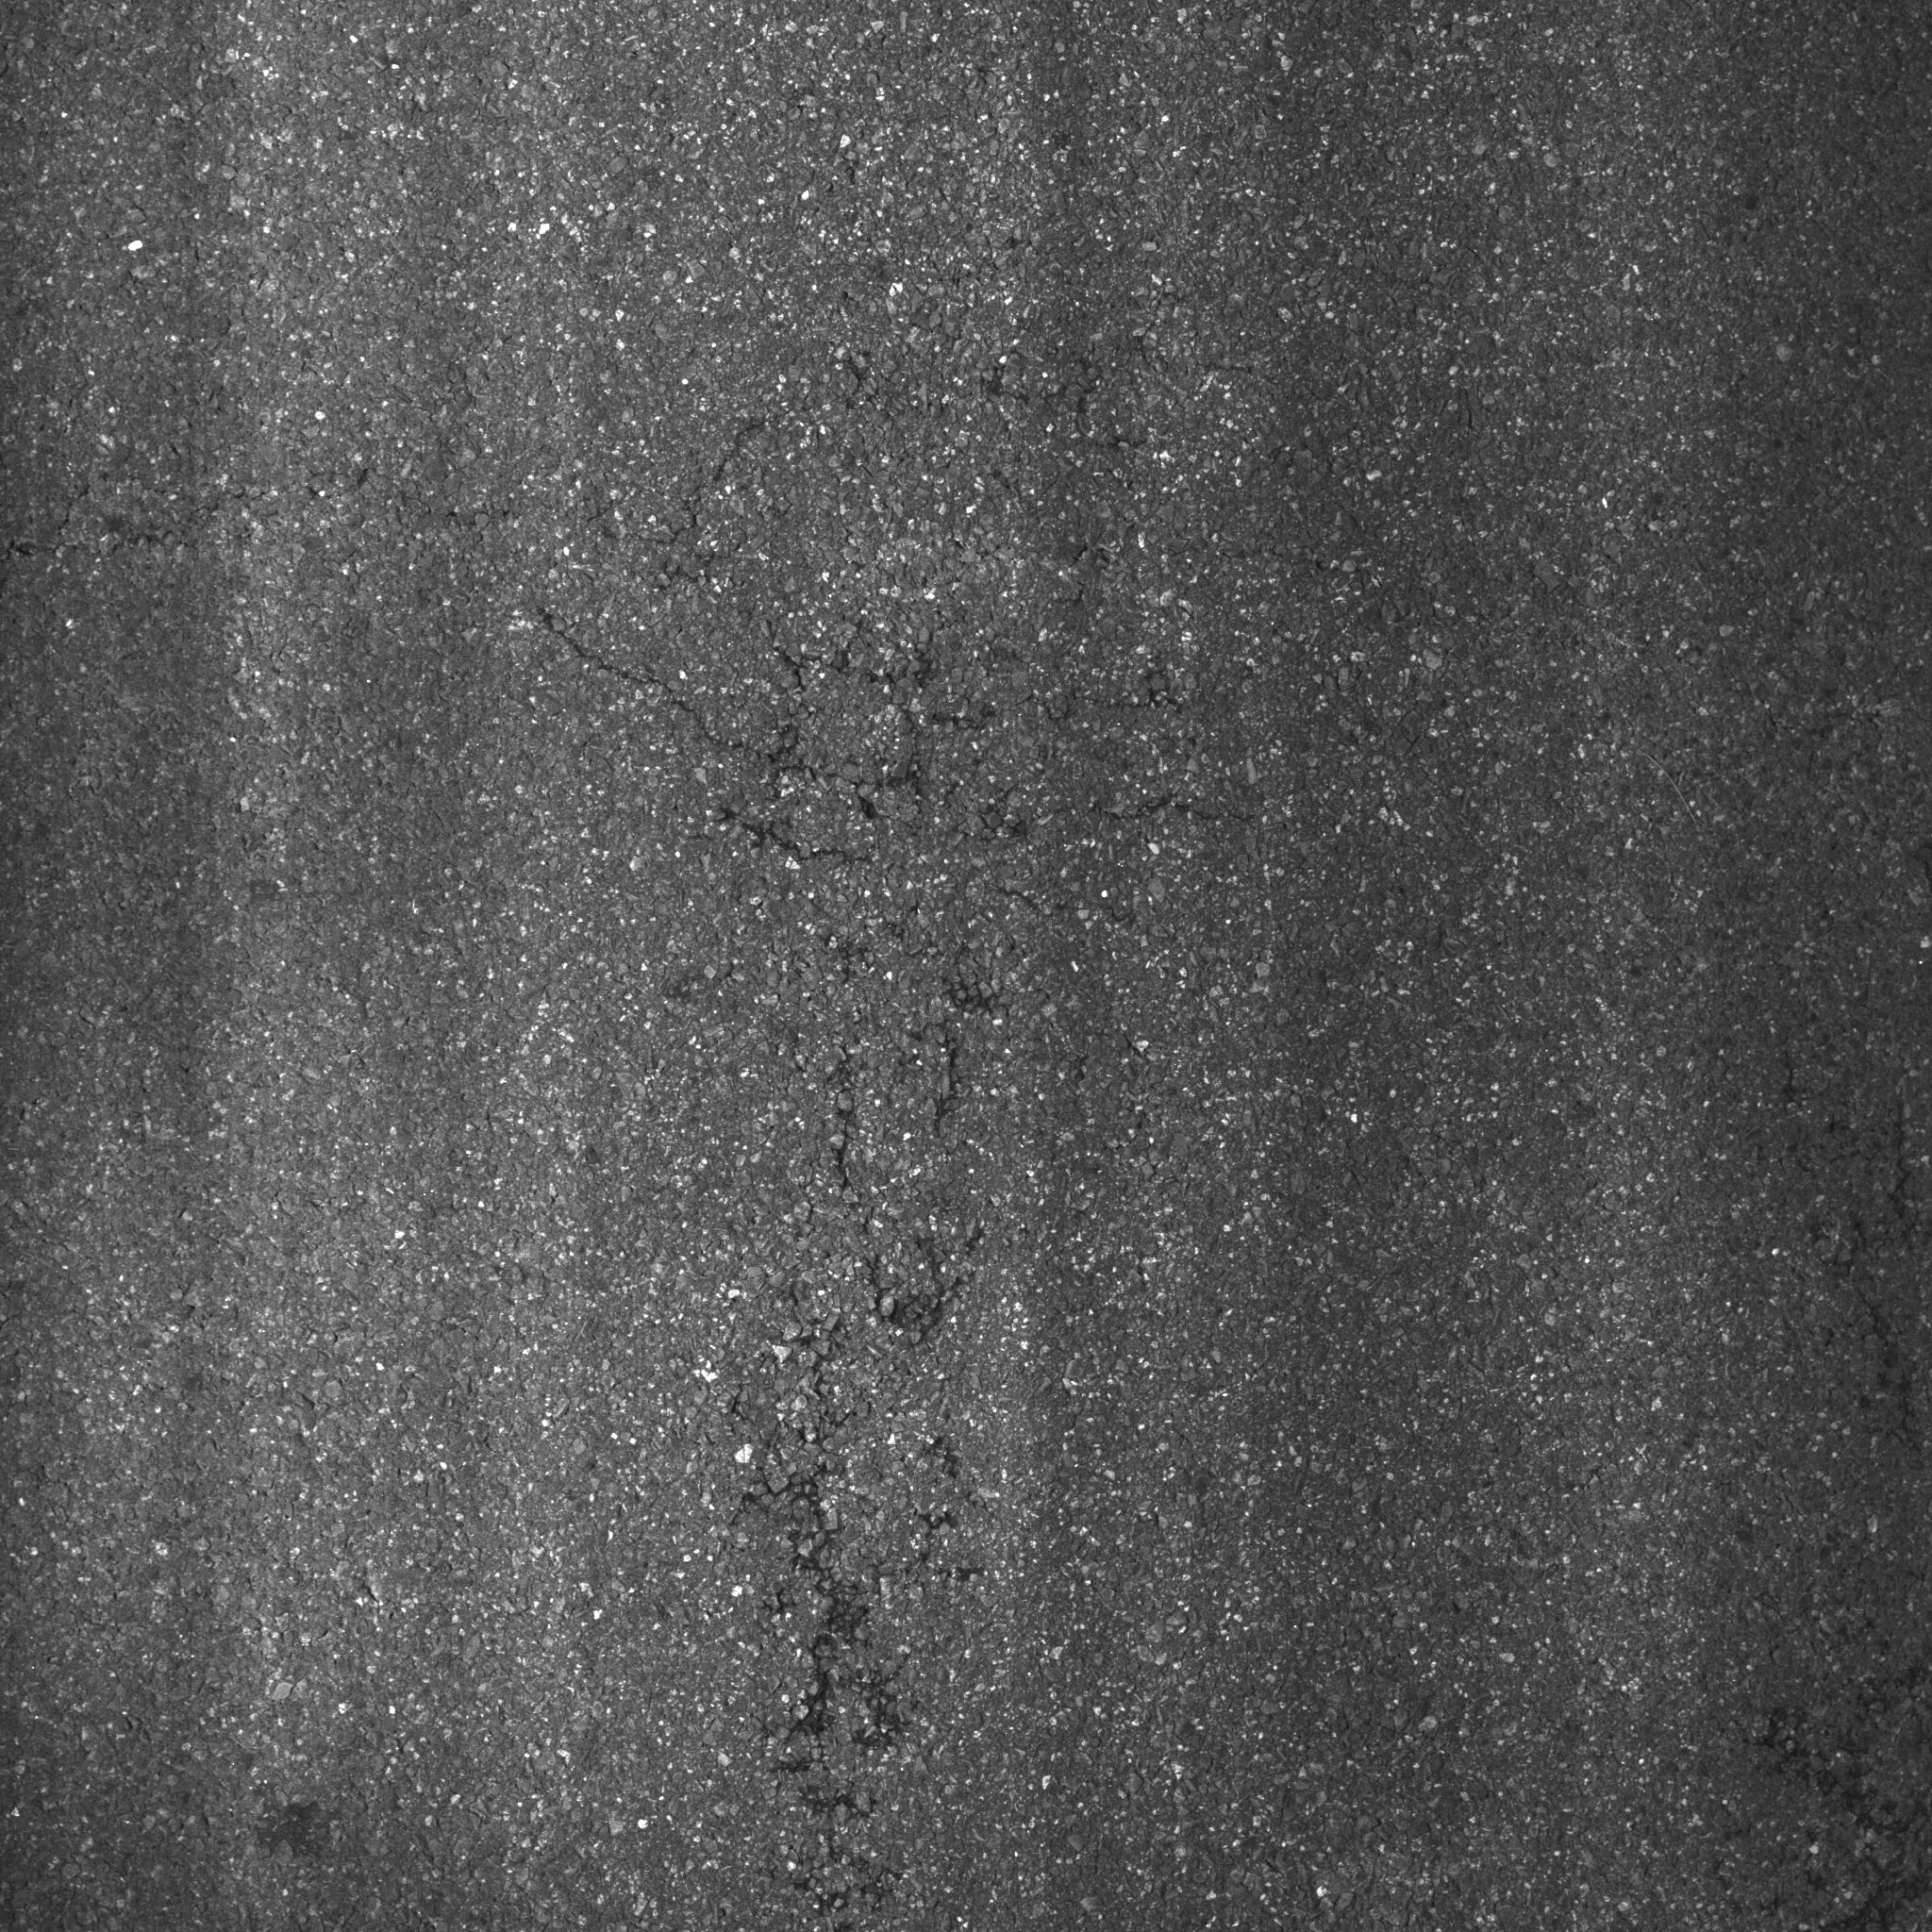alligator: (439, 442, 1258, 1813)
